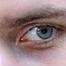eye: (37, 27, 53, 39)
